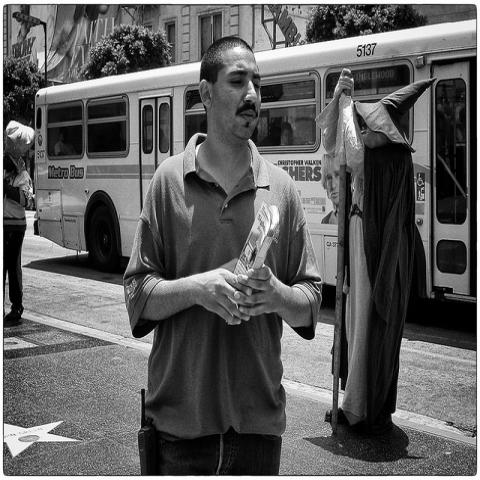bus: (35, 20, 478, 310)
